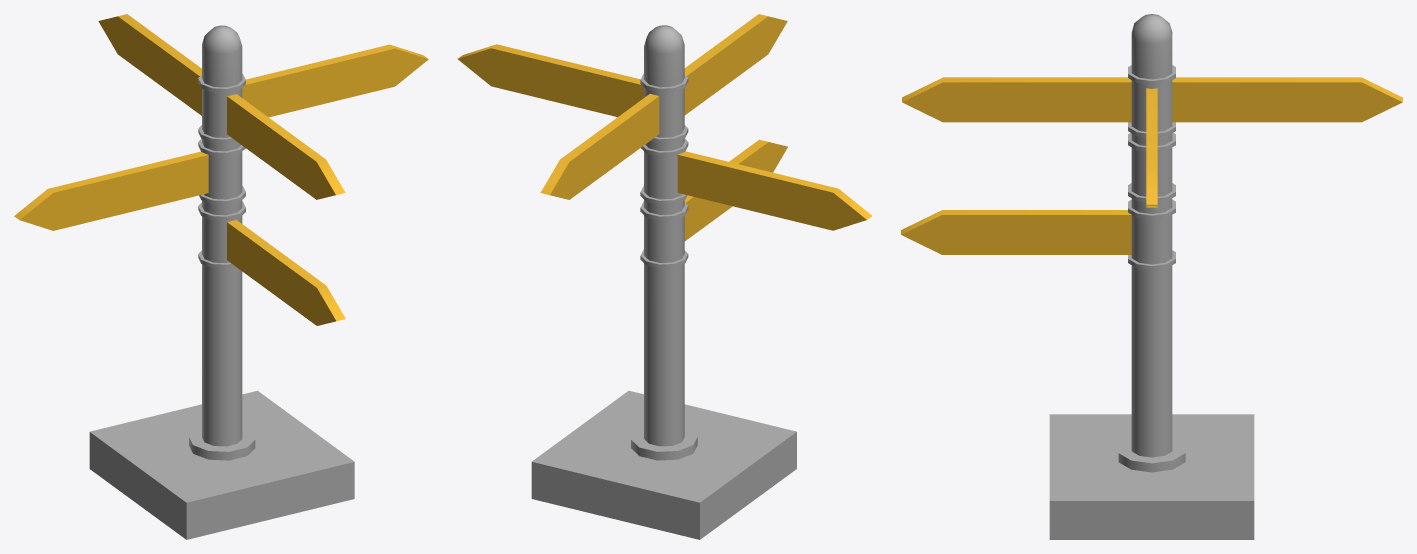
Rendered from Road_Signage1.fbx.
3 views of the same model, side by side, from view 1: azimuth 30°, elevation 25°; view 2: azimuth 150°, elevation 25°; view 3: azimuth 270°, elevation 25° (orthographic). The views are drawn at different scales.
Visible parts, largest first — view 1: Road_Signage1; view 2: Road_Signage1; view 3: Road_Signage1.
Part boxes in pixels (x1,y1,x2,y2): Road_Signage1: (14, 14, 428, 539); Road_Signage1: (458, 14, 871, 539); Road_Signage1: (901, 14, 1402, 539).
Bounding box in the file's own units: 0.6628 × 0.7063 × 0.668.
